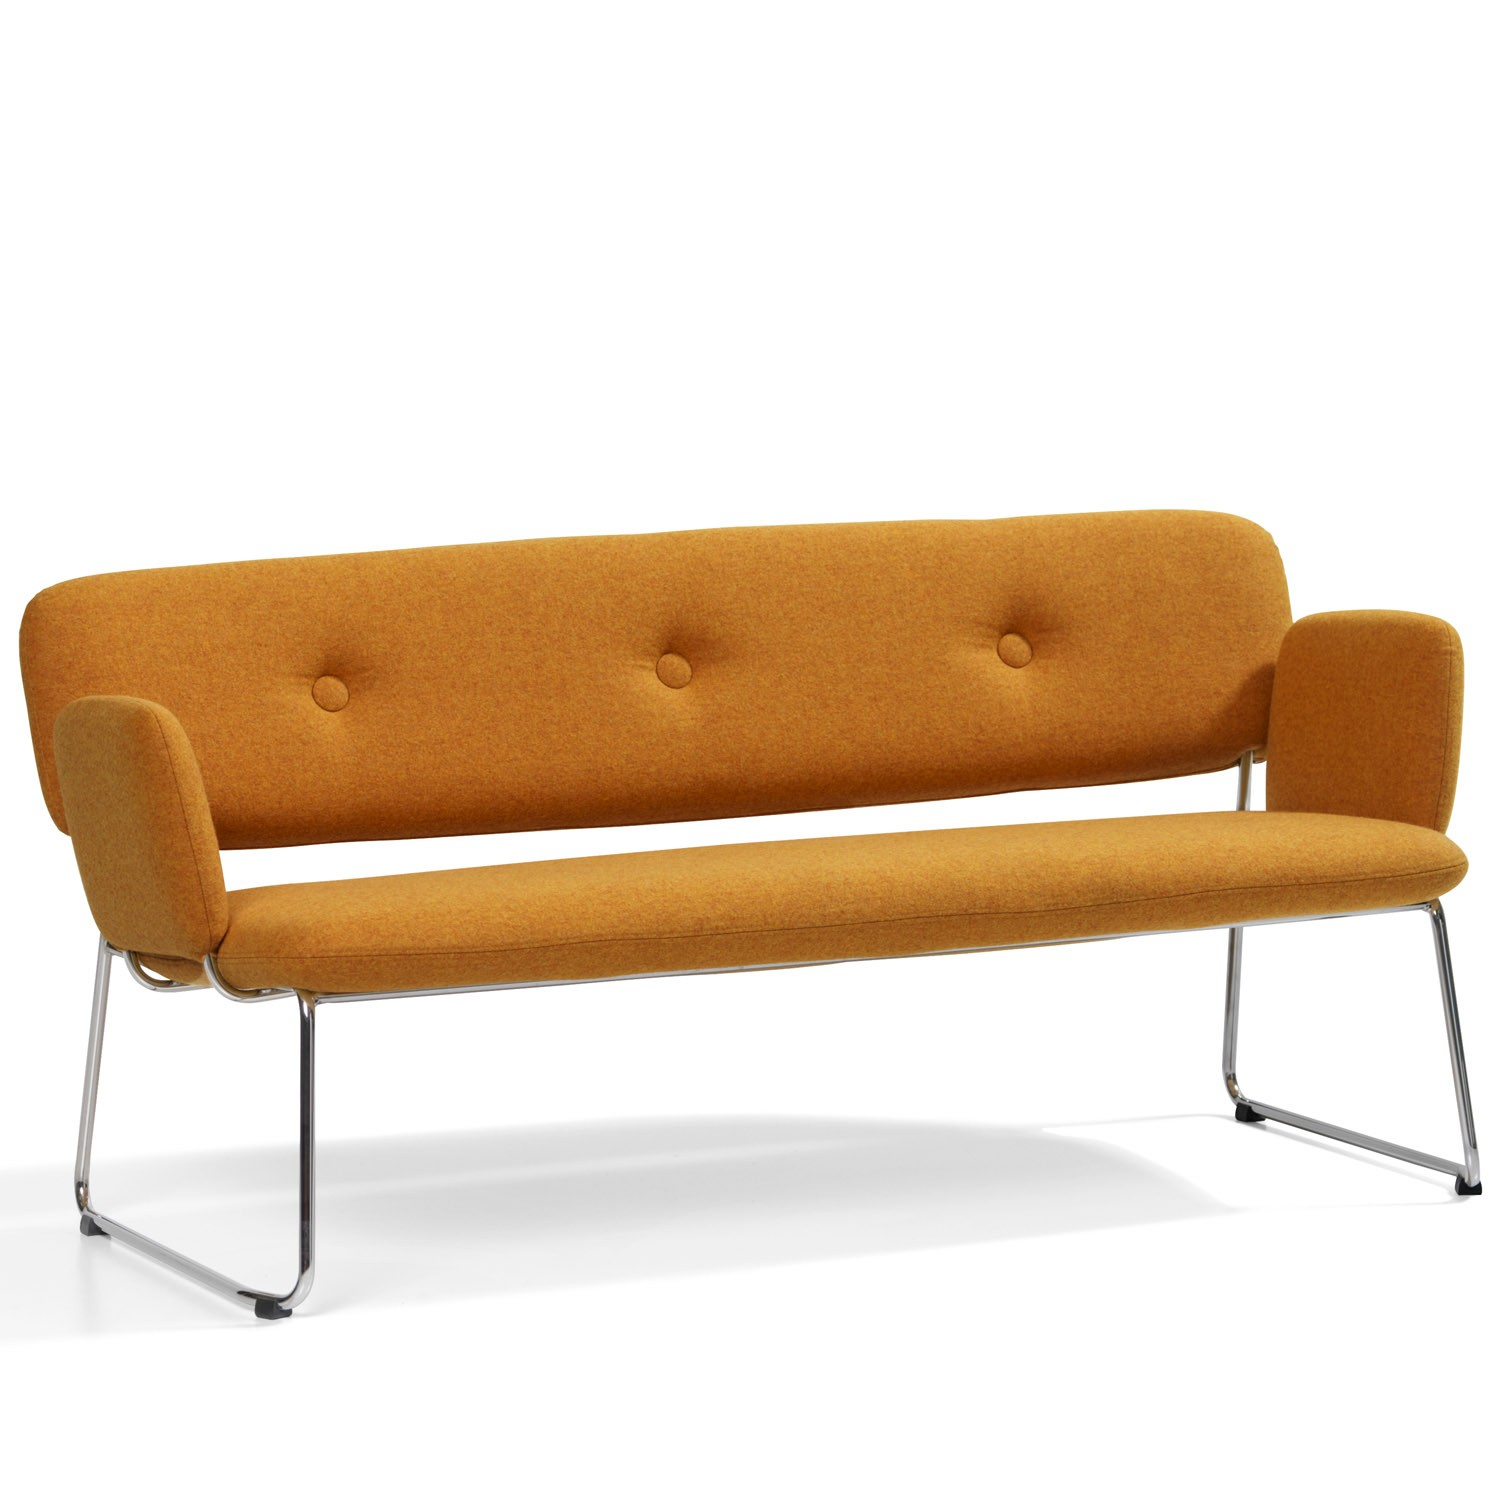chairs: (18, 496, 1495, 1330)
